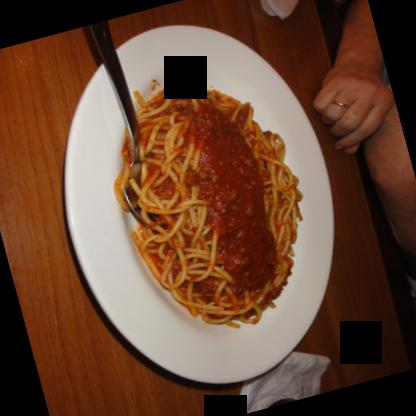pasta: (95, 63, 323, 344)
